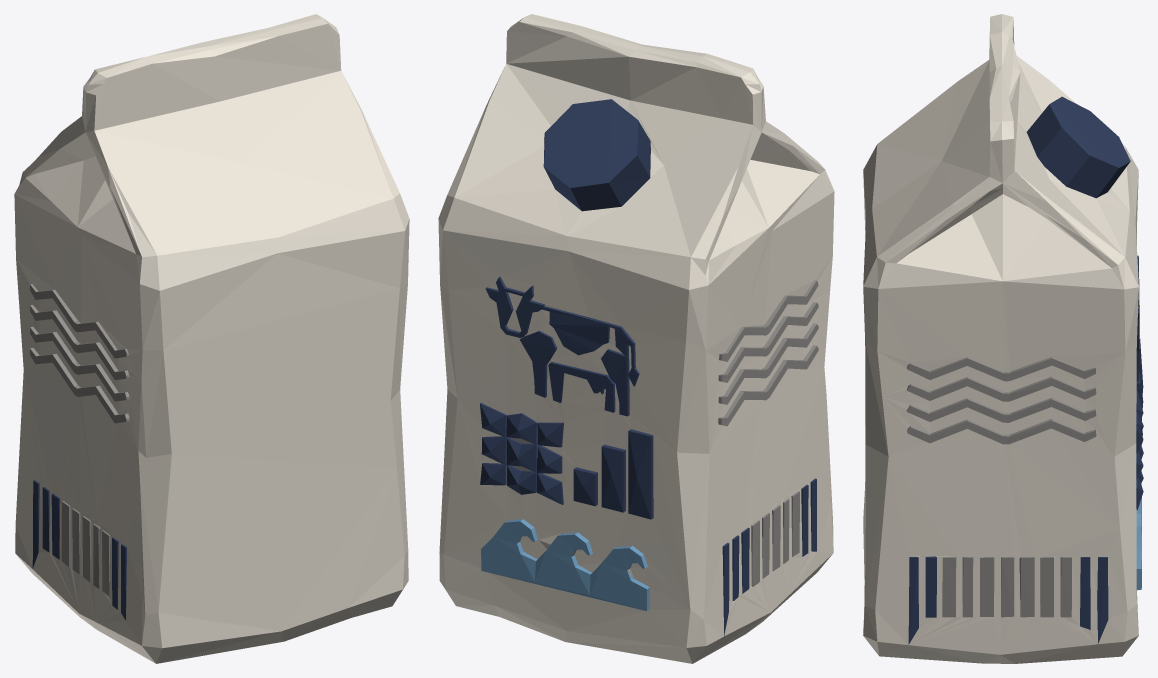
Rendered from MilkCarton.fbx.
The picture shows the model from 3 angles, left to right: view 1: azimuth 30°, elevation 25°; view 2: azimuth 150°, elevation 25°; view 3: azimuth 270°, elevation 25°; orthographic projection. The views are drawn at different scales.
Parts seen in each view (by area): view 1: MilkCarton; view 2: MilkCarton; view 3: MilkCarton.
Part boxes in pixels (x1,y1,x2,y2): MilkCarton: (14,14,409,663); MilkCarton: (438,14,834,663); MilkCarton: (863,14,1143,663).
Size of the model in its own units: 0.1105 by 0.102 by 0.2185.
